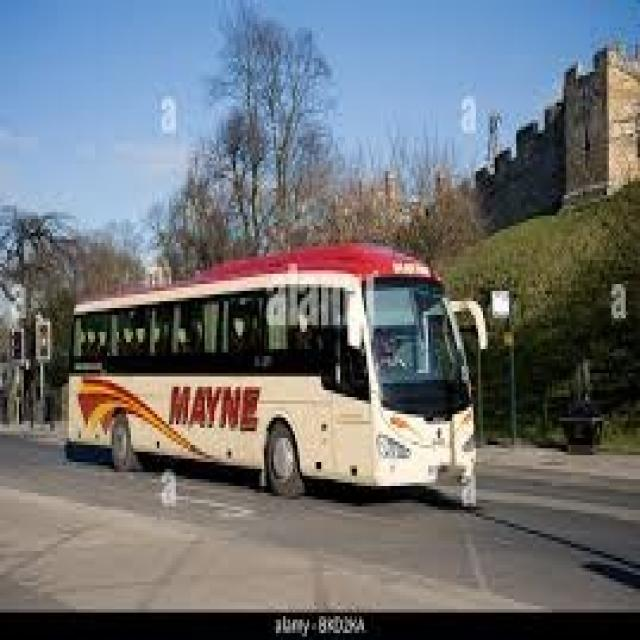bus: (58, 243, 496, 558)
